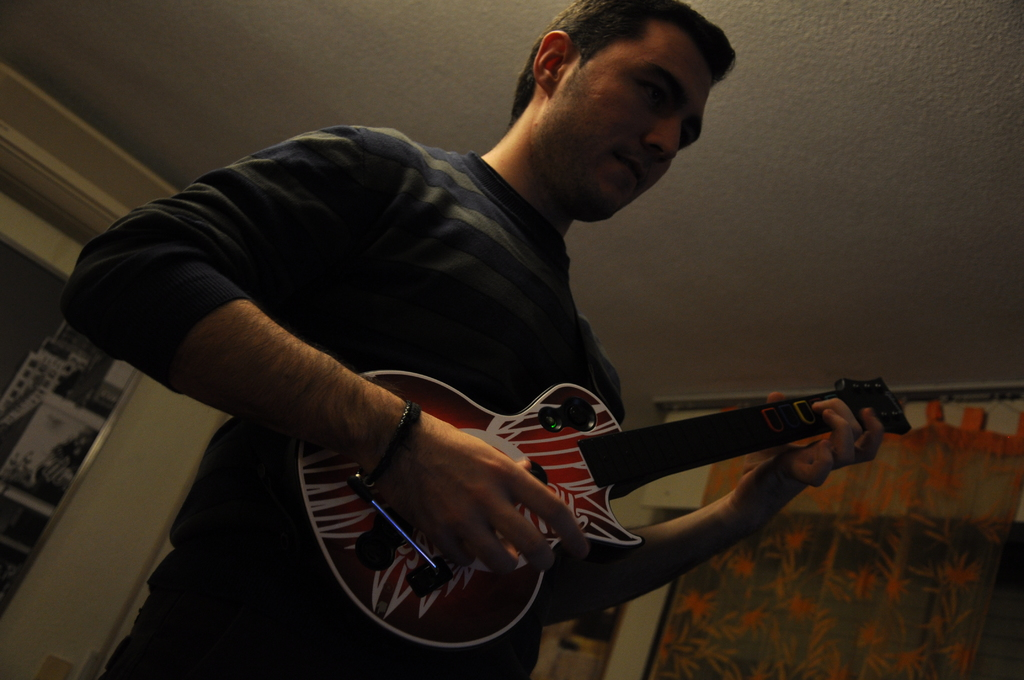Human_hand: (392, 391, 577, 600), (728, 390, 888, 525)
